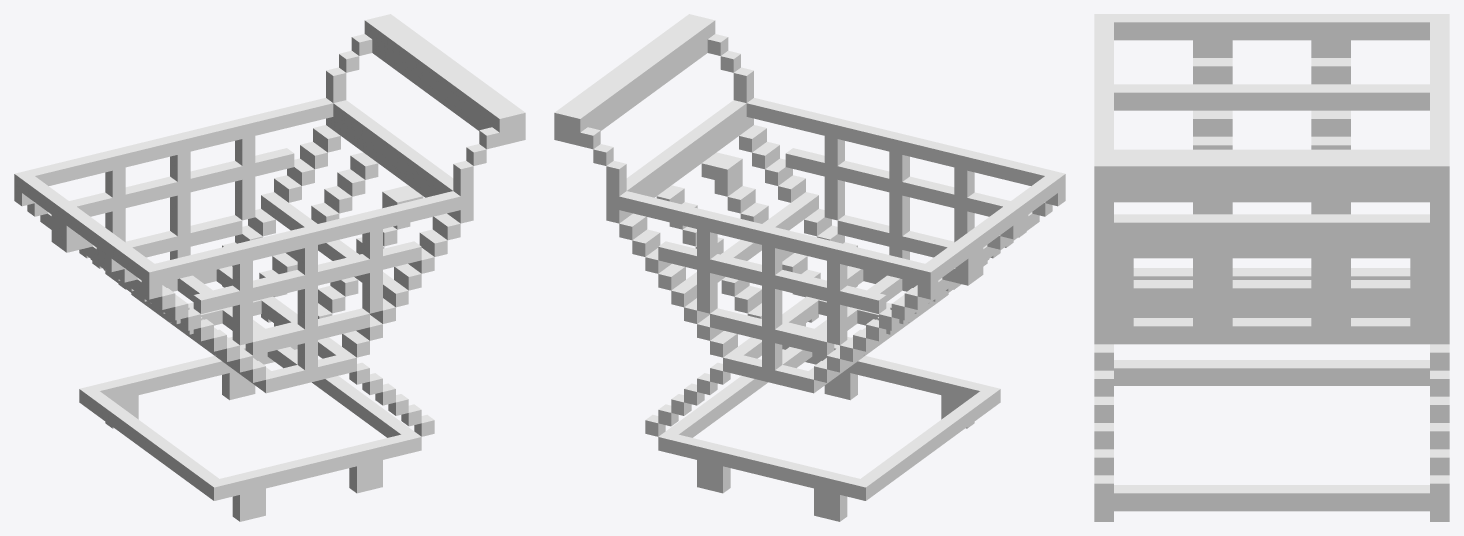
The model's file is ShoppingCart.dae.
3 renders of one model, left to right at view 1: azimuth 30°, elevation 25°; view 2: azimuth 150°, elevation 25°; view 3: azimuth 270°, elevation 25°, orthographic. The views are drawn at different scales.
Visible parts, largest first — view 1: Matrix; view 2: Matrix; view 3: Matrix.
Part boxes in pixels (bbox=[...]): Matrix: bbox=[14, 14, 525, 521]; Matrix: bbox=[554, 14, 1065, 521]; Matrix: bbox=[1094, 14, 1449, 521].
Bounding box in the file's own units: 29 × 25 × 18.
1 material, 1 textured.
